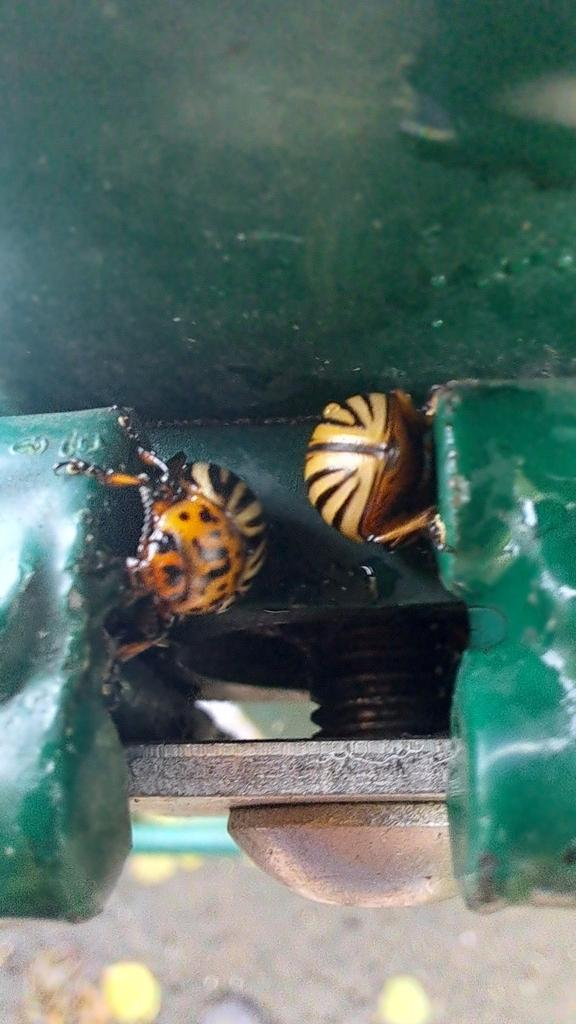potato_beetle: (20, 380, 306, 708), (271, 324, 479, 604)
